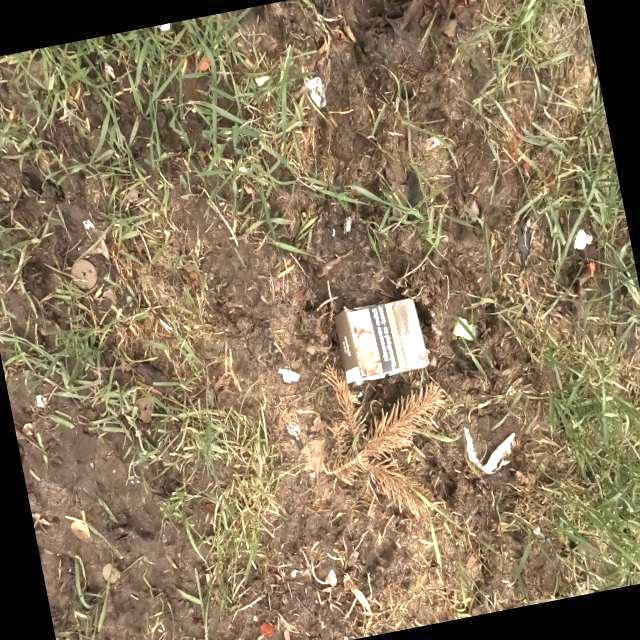Paper: (336, 294, 434, 386)
